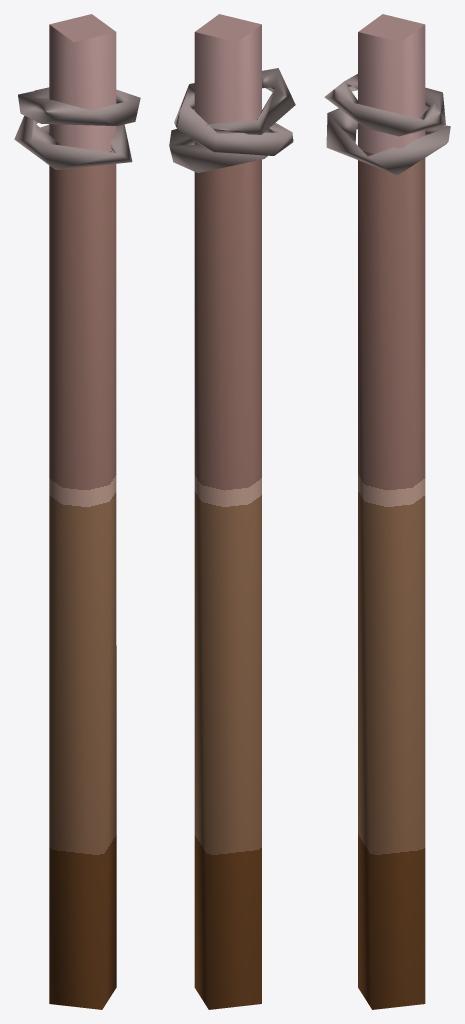
File: Environment_Dock_Pole.medium.gltf
3 views of the same model, side by side, from view 1: azimuth 30°, elevation 25°; view 2: azimuth 150°, elevation 25°; view 3: azimuth 330°, elevation 25° (orthographic).
Visible parts, largest first — view 1: Environment_Dock_Pole; view 2: Environment_Dock_Pole; view 3: Environment_Dock_Pole.
Boxes of the visible parts, bbox=[...] form: Environment_Dock_Pole: bbox=[14, 14, 140, 1009]; Environment_Dock_Pole: bbox=[169, 14, 295, 1009]; Environment_Dock_Pole: bbox=[324, 14, 450, 1009].
Size of the model in its own units: 0.3475 by 3.01 by 0.3534.
Materials: 1 (1 with a texture image).
